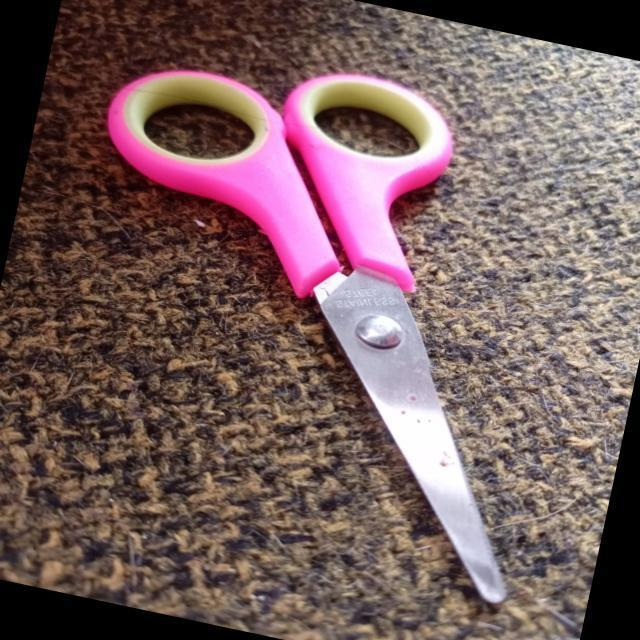scissors: (2, 0, 620, 636)
